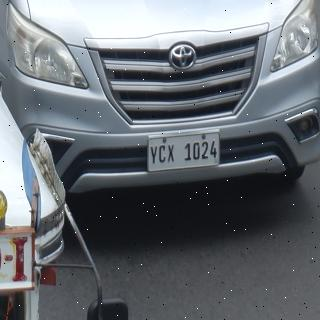license: (149, 133, 220, 173)
